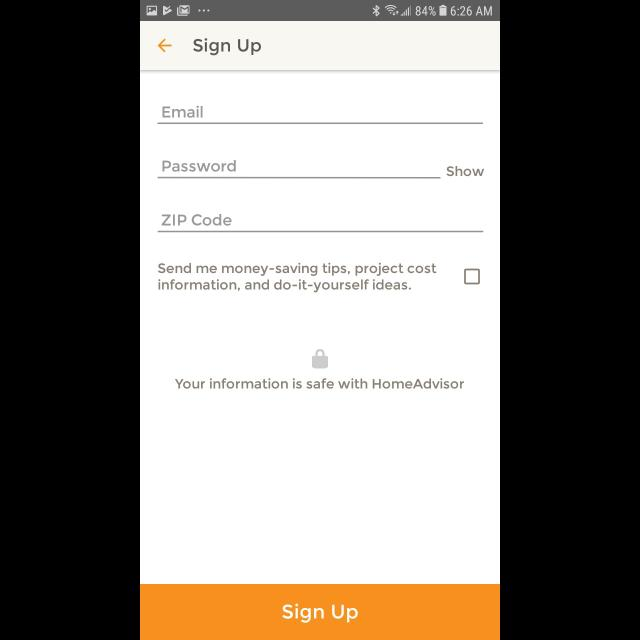checkbox: (464, 268, 480, 284)
icon: (312, 349, 328, 369), (158, 39, 172, 53)
input: (158, 105, 482, 125), (157, 214, 483, 232), (157, 161, 440, 179)
text: (158, 262, 438, 294), (176, 378, 464, 389), (193, 38, 261, 56), (163, 160, 237, 172), (162, 214, 232, 226), (162, 106, 204, 118), (447, 166, 485, 178)
textbutton: (140, 584, 500, 640)
uppertaskbar: (140, 1, 500, 22)
